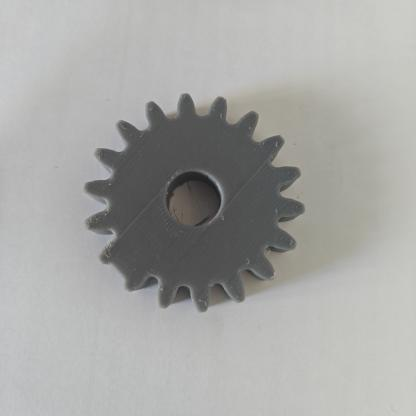defect: (85, 220, 160, 307)
gear: (60, 76, 339, 356)
